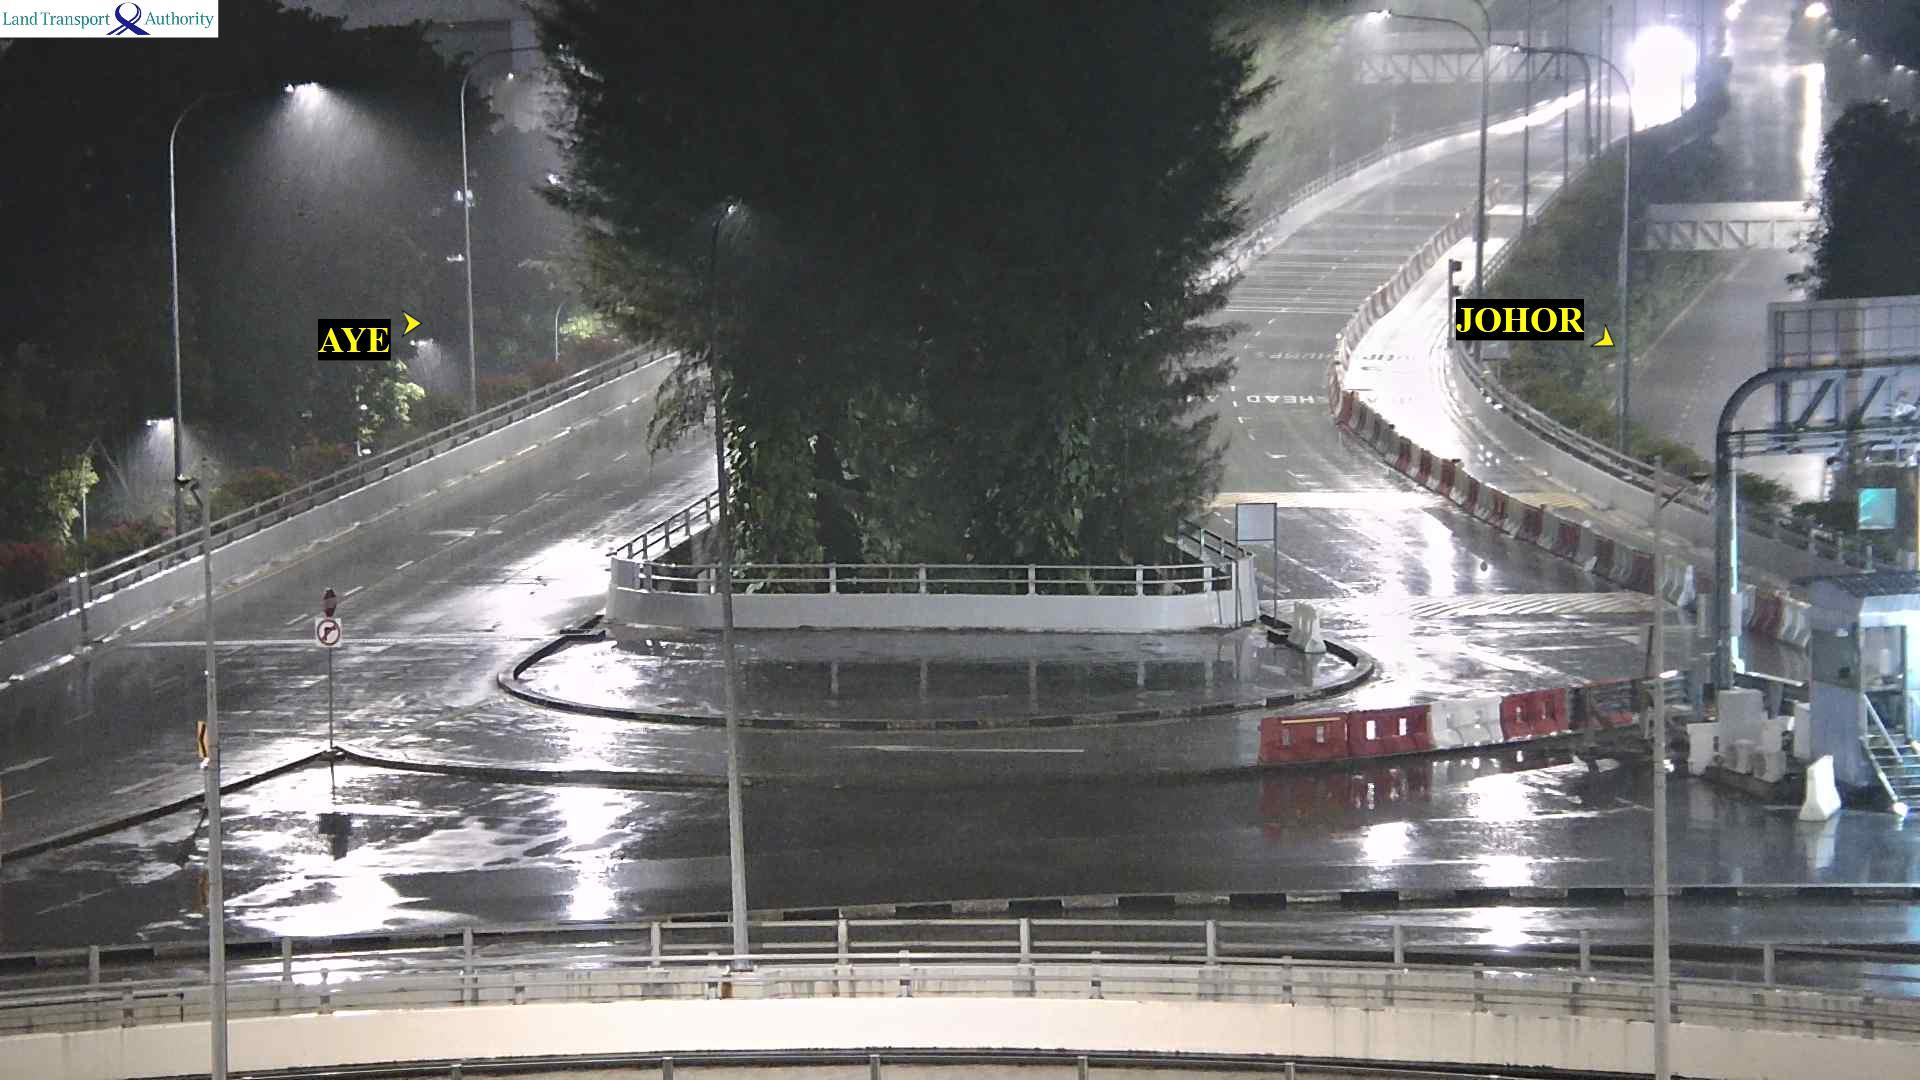vehicle-causeway-singapore: (1640, 35, 1672, 83)
